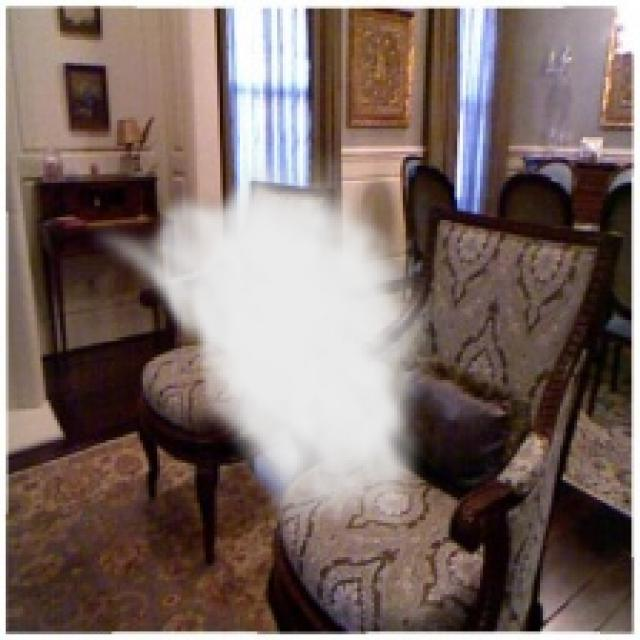smoke: (86, 146, 440, 548)
